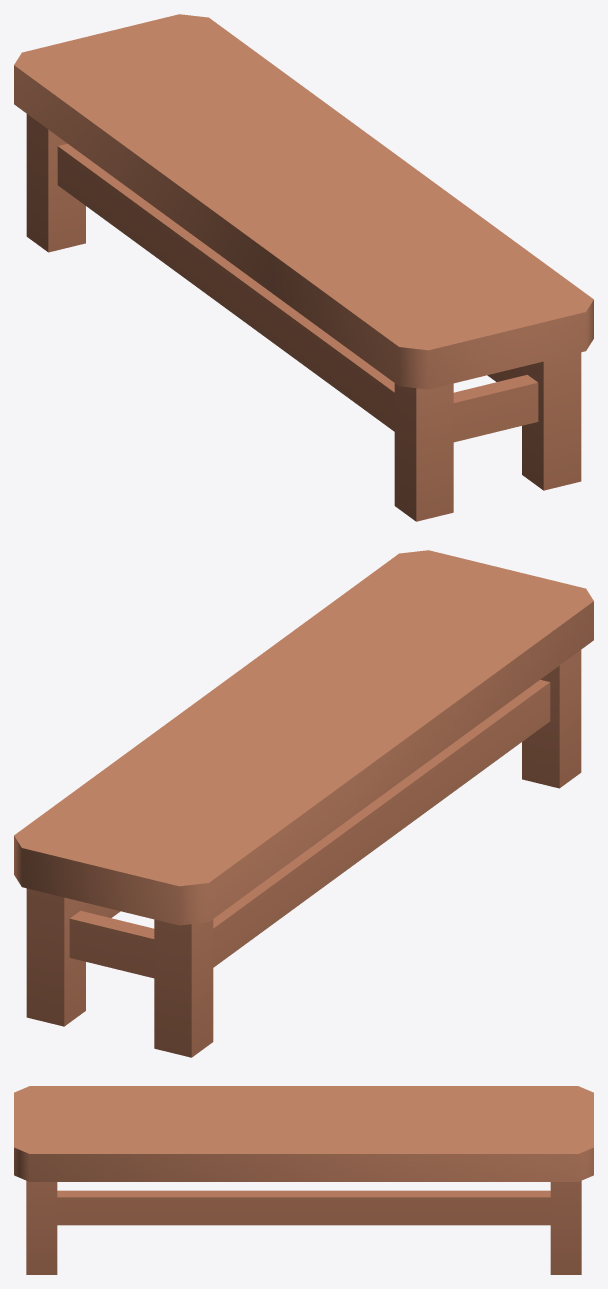
File: town_stall_bench.glb
3 renders of one model, top to bottom at view 1: azimuth 30°, elevation 25°; view 2: azimuth 150°, elevation 25°; view 3: azimuth 270°, elevation 25°, orthographic. The views are drawn at different scales.
Parts seen in each view (by area): view 1: stall-bench; view 2: stall-bench; view 3: stall-bench.
Boxes of the visible parts, box(x1,y1,x2,y2) form: stall-bench: box(14, 14, 593, 521); stall-bench: box(14, 550, 593, 1057); stall-bench: box(14, 1086, 593, 1274).
Bounding box in the file's own units: 0.676 × 0.5863 × 2.44.
1 material, 1 textured.
